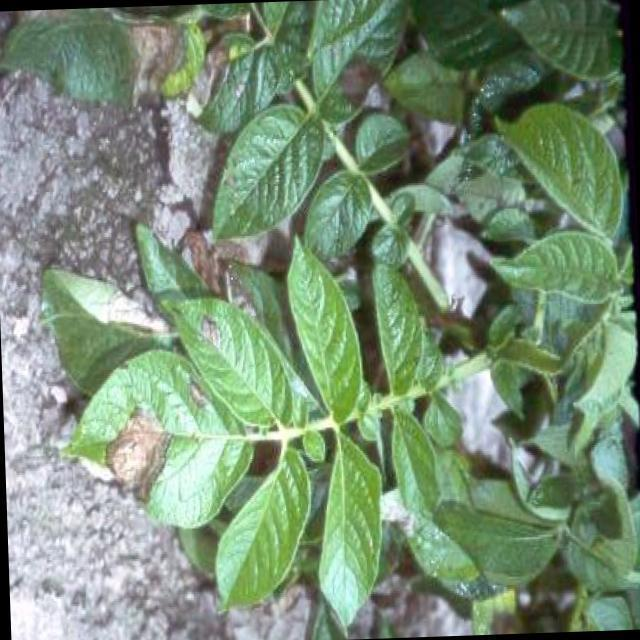Healthy Leaf: (218, 442, 310, 628), (282, 242, 362, 414), (326, 427, 386, 627), (383, 402, 444, 524), (301, 168, 365, 272), (370, 265, 420, 394)
